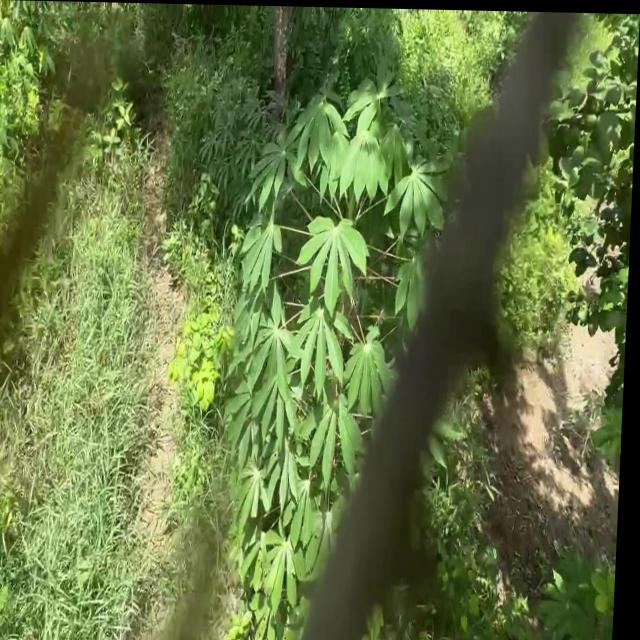Maleza: (1, 243, 165, 456), (11, 431, 181, 630), (9, 22, 163, 228), (147, 247, 235, 402), (545, 547, 634, 640), (503, 227, 568, 332)
